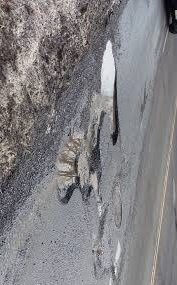pothole: (0, 4, 87, 69), (54, 125, 98, 210), (0, 73, 57, 115), (100, 33, 120, 150), (0, 121, 32, 171), (90, 209, 106, 281), (110, 181, 126, 228), (111, 237, 124, 279)
